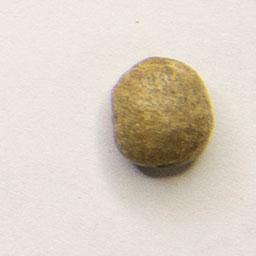peaberry: (107, 53, 219, 172)
